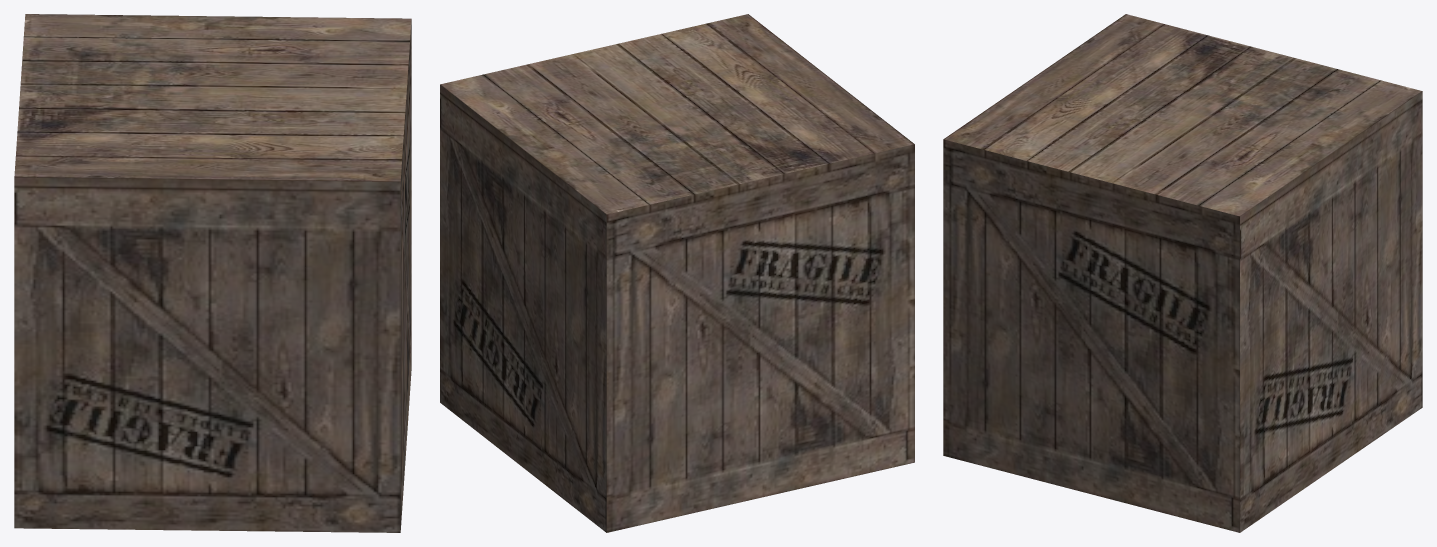
The model's file is Wooden_box_v1_LD1square (15).glb.
The picture shows the model from 3 angles, left to right: view 1: azimuth 30°, elevation 25°; view 2: azimuth 150°, elevation 25°; view 3: azimuth 270°, elevation 25°; orthographic projection. The views are drawn at different scales.
Parts seen in each view (by area): view 1: Wooden_box_v1_LD1square (15); view 2: Wooden_box_v1_LD1square (15); view 3: Wooden_box_v1_LD1square (15).
Boxes of the visible parts, <box> form: Wooden_box_v1_LD1square (15): <box>14,14,411,532</box>; Wooden_box_v1_LD1square (15): <box>440,14,914,532</box>; Wooden_box_v1_LD1square (15): <box>943,14,1422,532</box>.
Size of the model in its own units: 1.11 by 0.8124 by 1.11.
1 material, 1 textured.
